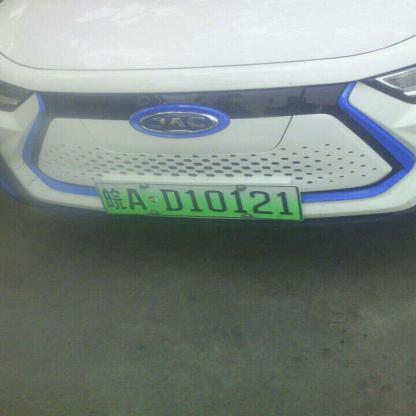lp: (97, 183, 300, 219)
